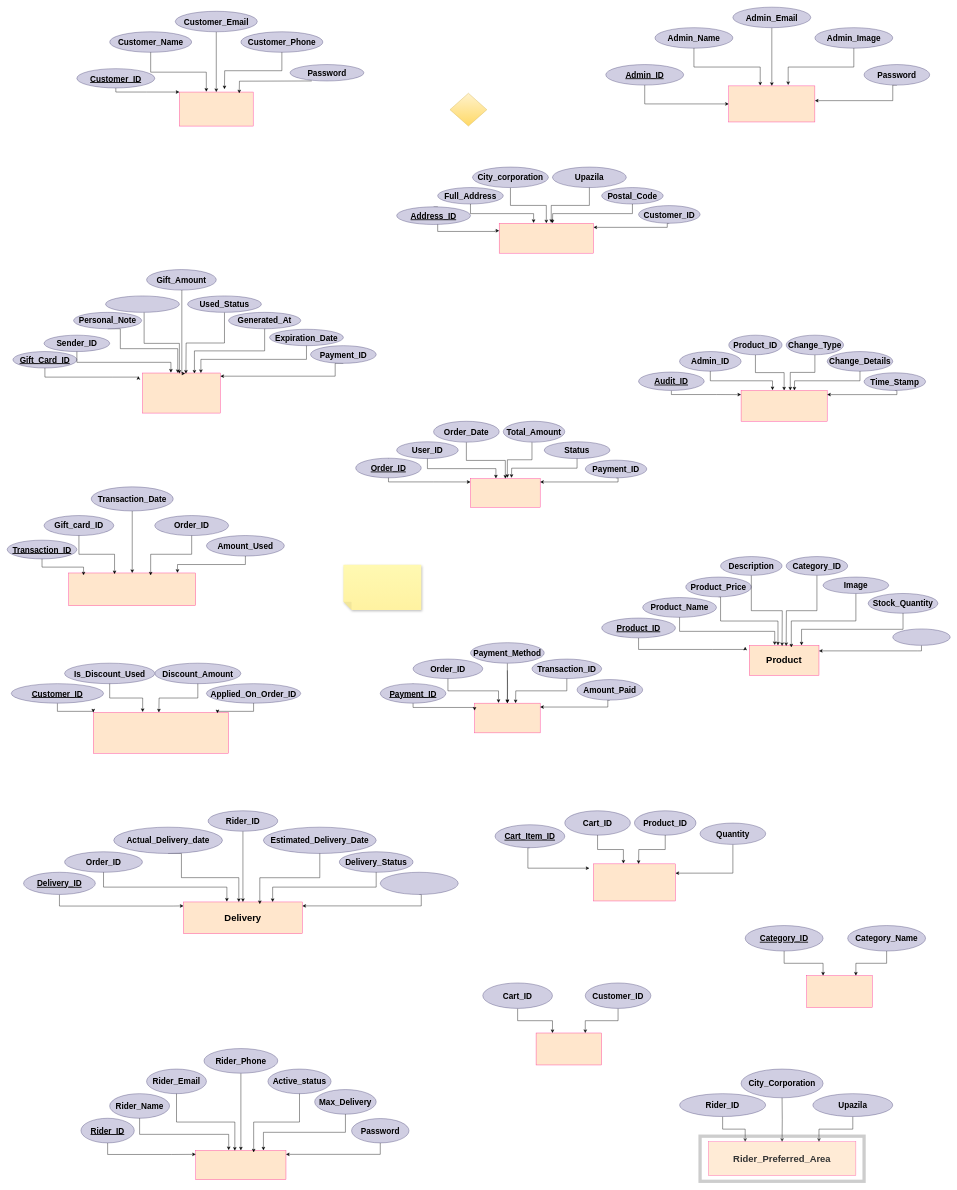
Image size: 957x1190. Some labels were removed from this diagram. The centre of each missing label's shape, as x and y in pixels:
"Admin" goes at point 771,103.
"Cart" goes at point 569,1049.
"Cart_Item" goes at point 634,882.
"Category" goes at point 839,991.
"Customer" goes at point 216,109.
"Customer_Address" goes at point 546,238.
"First_Order_Discount" goes at point 161,732.
"Gift_Card" goes at point 181,393.
"Gift_Card_Transaction" goes at point 132,589.
"Is_Active" goes at point 921,637.
"Orders" goes at point 505,492.
"Payment" goes at point 507,718.
"Product_Audit" goes at point 784,405.
"Recipient_Email" goes at point 142,304.
"Rider" goes at point 240,1165.
"Tracking_Number" goes at point 419,883.
